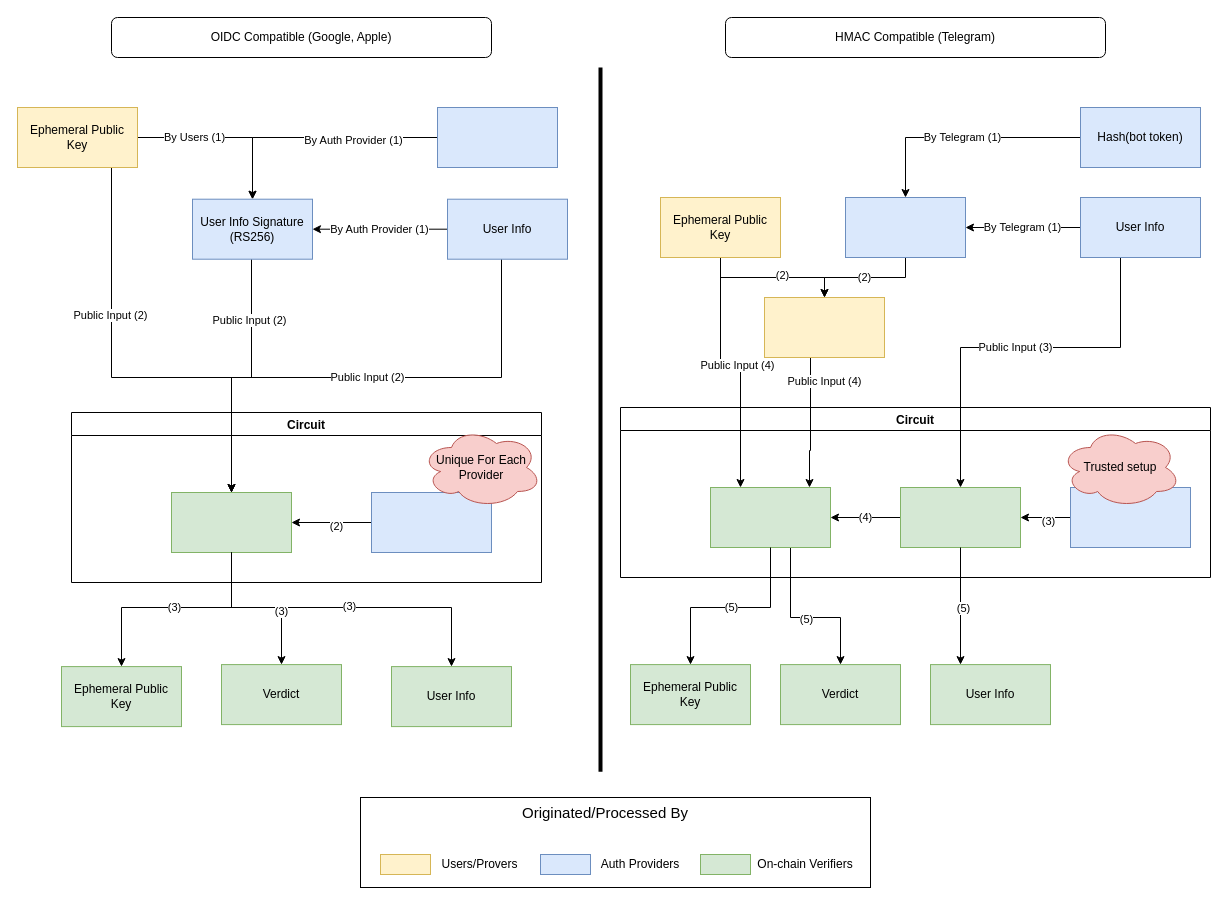
Some shapes in this 1228 by 905 pixel diagram are drawn without their labels. The shapes that lost their labels are listed below. From the top down, each one's centre as x and y in pixels, then its label:
At (497,137): "Auth Provider's Private Key".
At (905,227): "User Info Hash (HMAC256)".
At (824,327): "Hash_E (zk-friendly)".
At (231,522): "Signature Check".
At (431,522): "Auth Provider's Public Key (0)".
At (770,517): "Hash Check (zk-friendly)".
At (960,517): "User Info Hash (SHA256 check)".
At (1130,517): "Hash(bot token) (0)".
